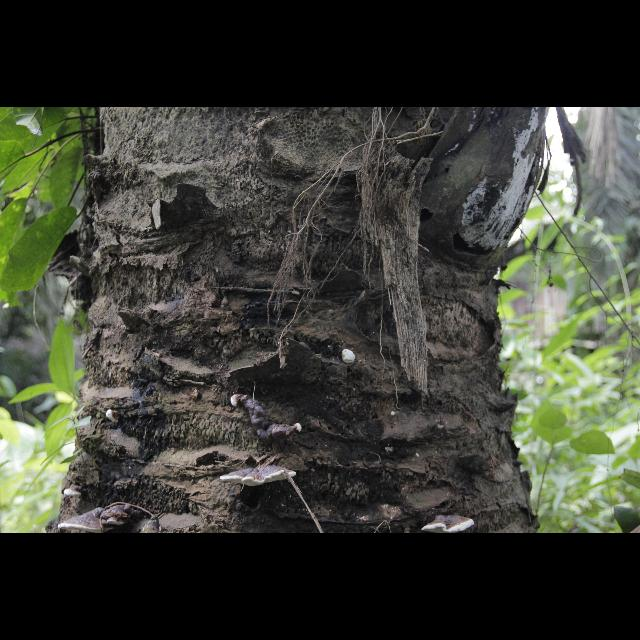ganoderma: (242, 396, 295, 445), (221, 466, 298, 488), (59, 509, 116, 535), (422, 516, 476, 535), (101, 505, 142, 527), (64, 490, 85, 499)
primordium: (106, 411, 122, 425), (342, 350, 356, 365), (232, 395, 241, 408), (295, 424, 303, 434), (392, 413, 397, 418)
